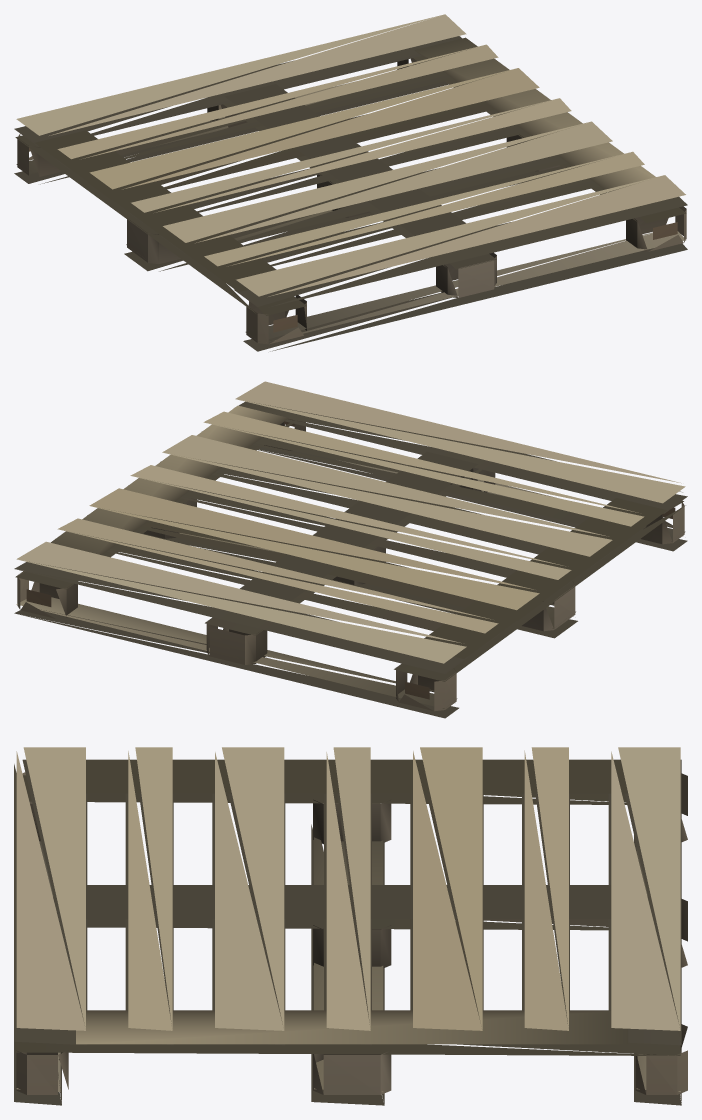
Rendered from pallet.lod.glb.
The picture shows the model from 3 angles, top to bottom: view 1: azimuth 30°, elevation 25°; view 2: azimuth 150°, elevation 25°; view 3: azimuth 270°, elevation 25°; orthographic projection. The views are drawn at different scales.
Parts seen in each view (by area): view 1: pallet.001; view 2: pallet.001; view 3: pallet.001.
Boxes of the visible parts, x1=… form: pallet.001: x1=14, y1=14, x2=687, y2=351; pallet.001: x1=14, y1=381, x2=687, y2=718; pallet.001: x1=14, y1=747, x2=687, y2=1105.
Bounding box in the file's own units: 1.2 × 0.144 × 1.2.
